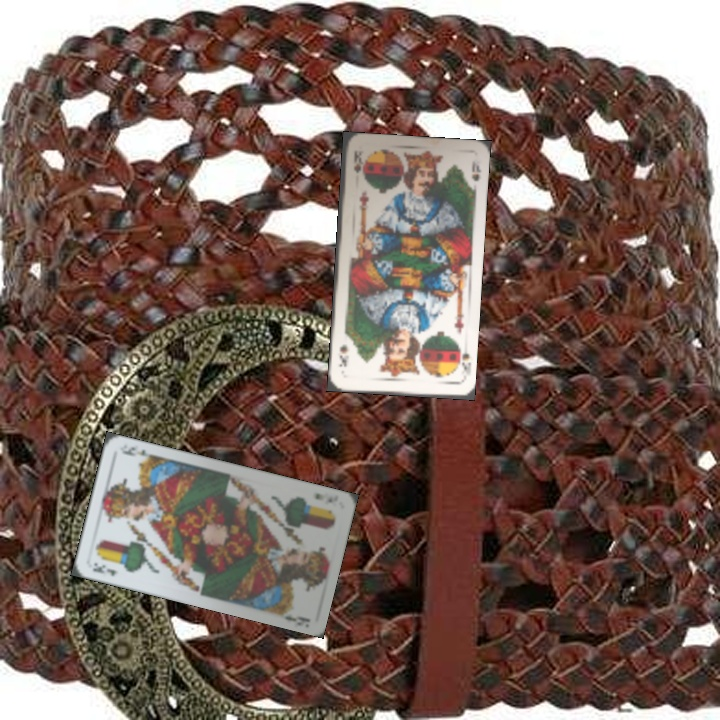EK: (89, 558, 121, 579), (310, 489, 341, 505)
SK: (452, 342, 472, 383), (349, 147, 364, 175)
